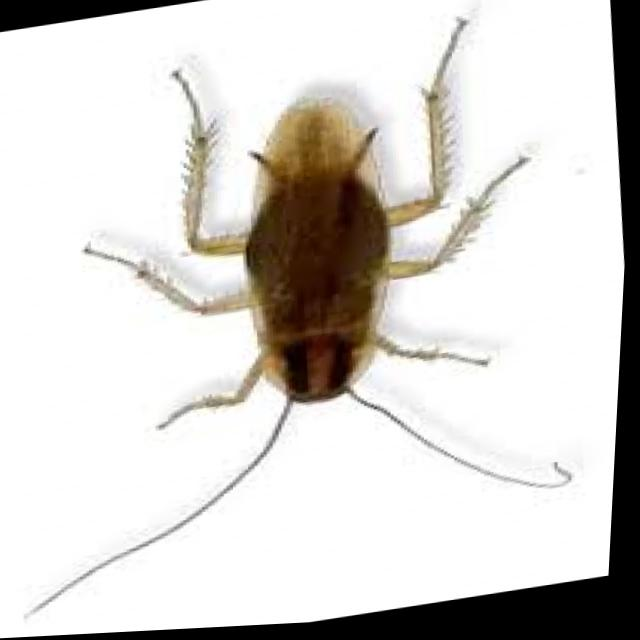Cockroach: (0, 0, 610, 632)
